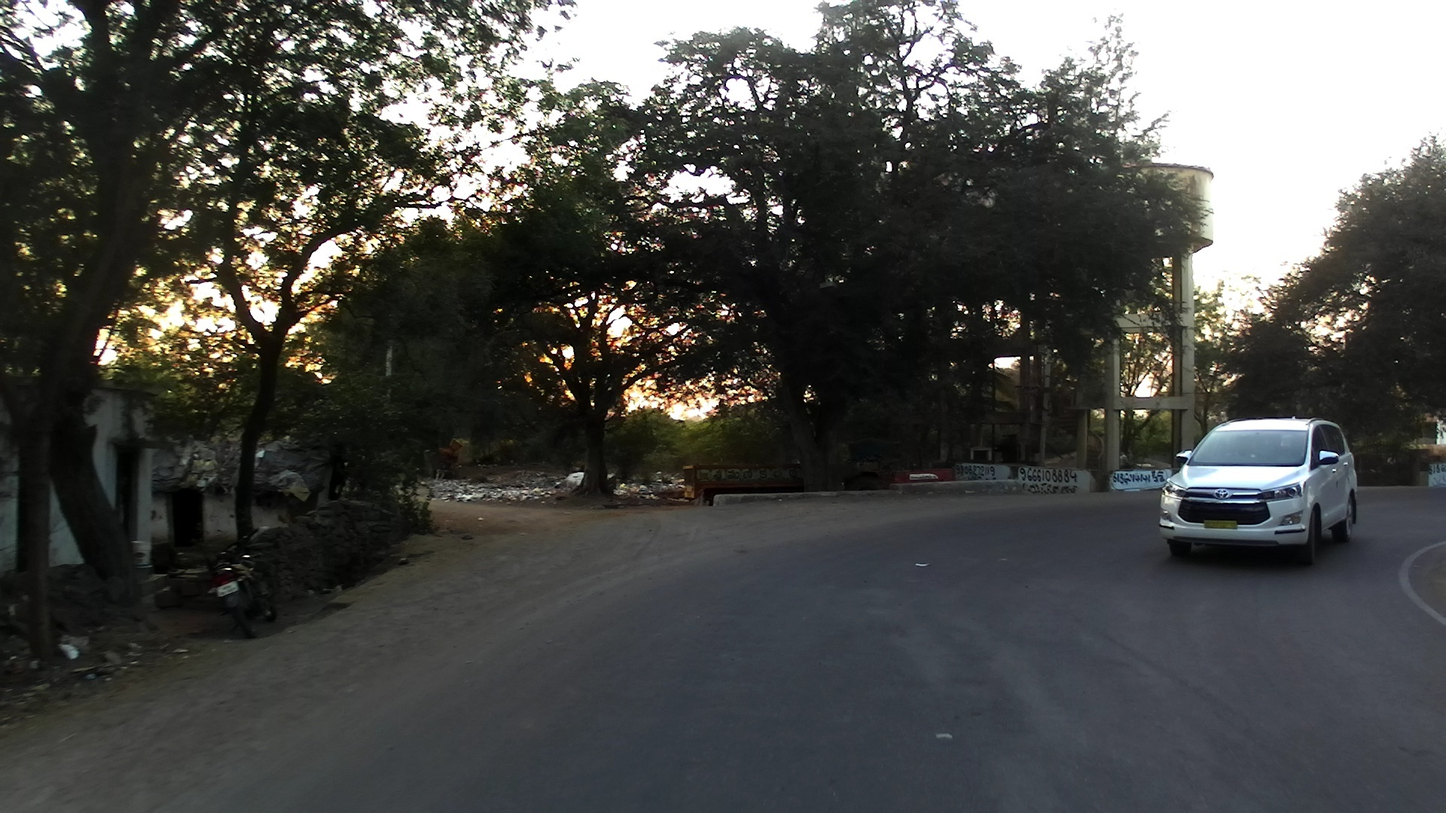car: (1160, 416, 1362, 570)
motorcycle: (201, 525, 294, 643)
